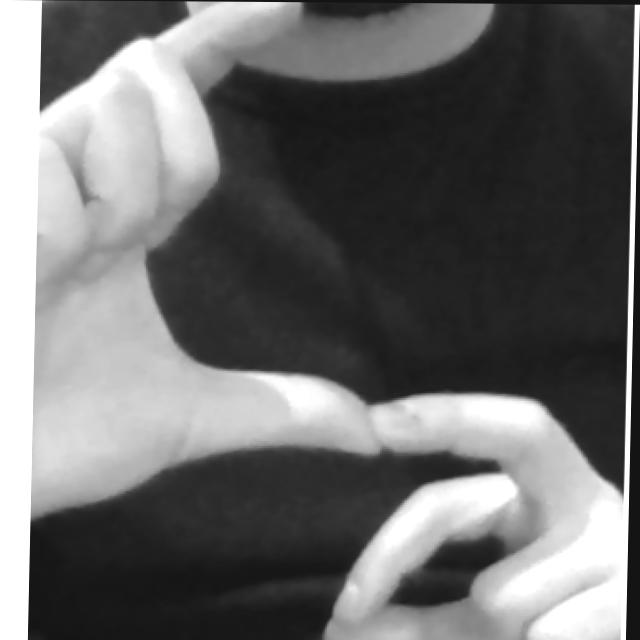S_: (28, 0, 633, 640)
